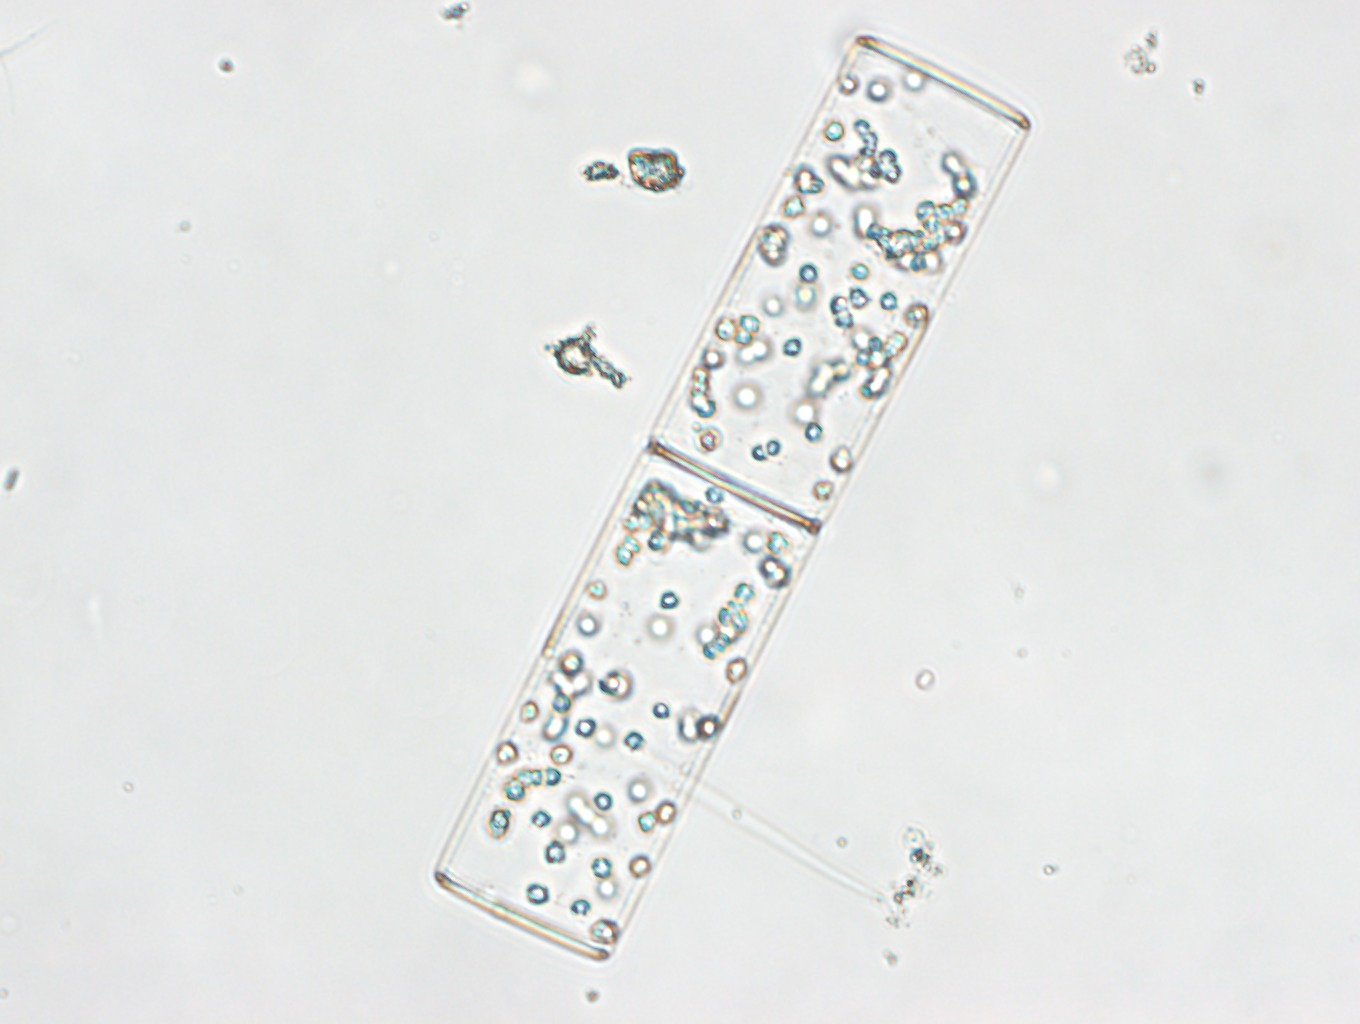guinardia flaccida: (432, 30, 1032, 964)
